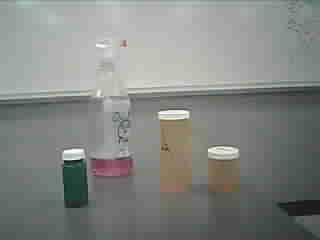Bottle A: (156, 106, 198, 197)
Bottle B: (204, 136, 245, 206)
Bottle C: (57, 145, 98, 209)
hazard: (85, 31, 145, 180)
